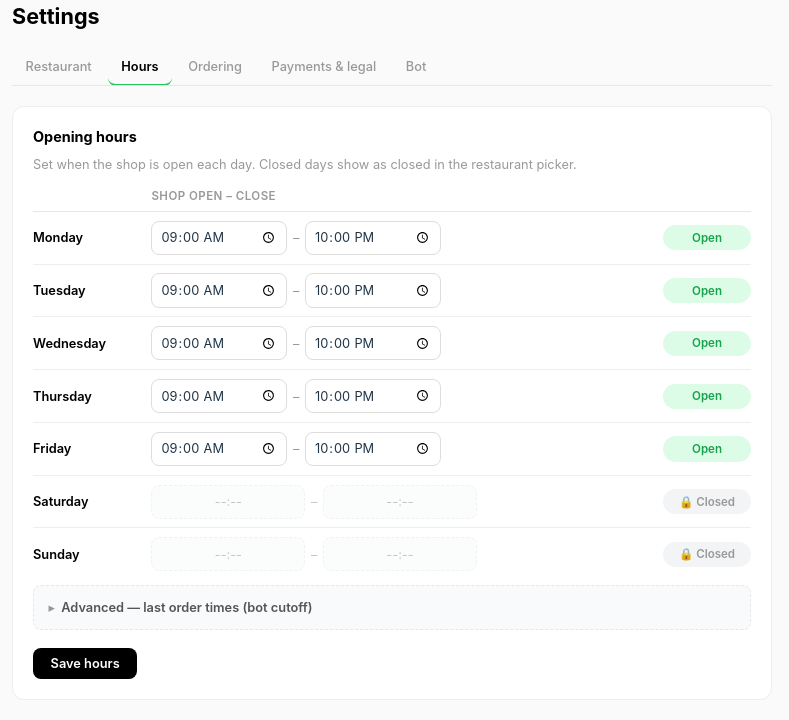
Test: SettingsPage — tabs and Advanced › opens Hours from ?tab=hours and hides order-window until Advanced expands
Expected: the heading "Opening hours" is shown, left=33, top=128, right=137, bottom=145
Click the heading "Advanced — last order times (bot cutoff)".
click(187, 607)  # box left=61, top=600, right=312, bottom=615
(page scrolled)
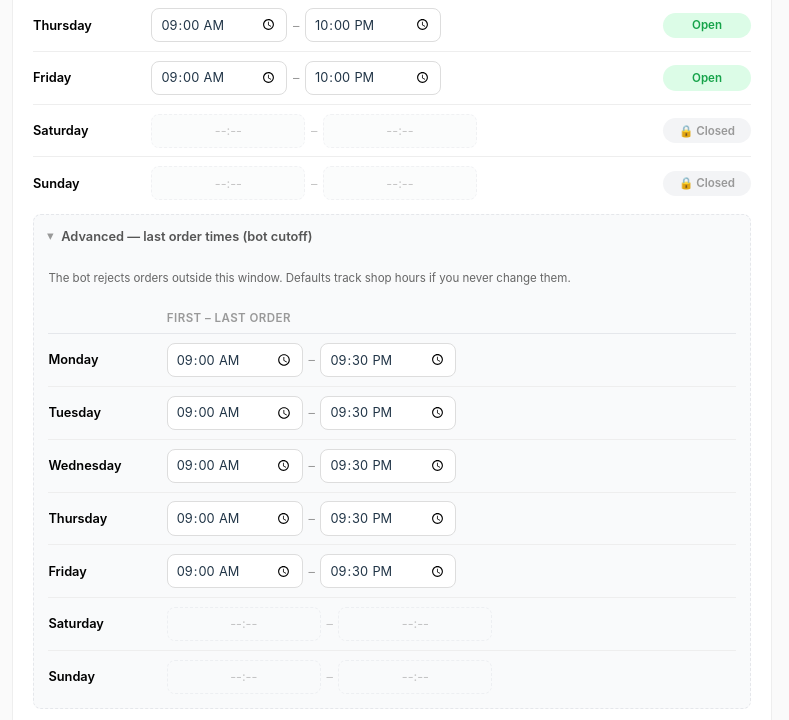
Now the time field named "Monday First order" is shown, box left=167, top=343, right=303, bottom=377
